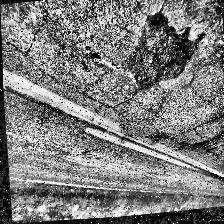pothole: (112, 7, 204, 95)
